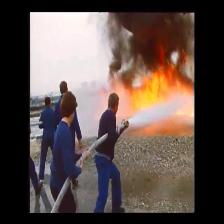fire: (128, 80, 164, 106)
smoke: (117, 15, 191, 45), (134, 47, 161, 73)
